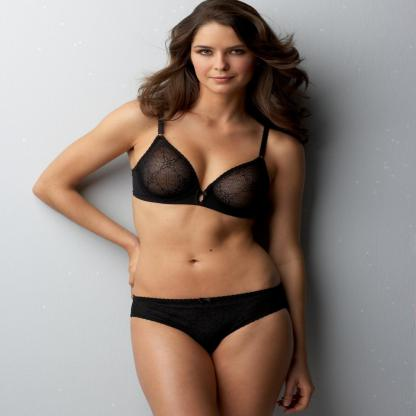long-hair: (136, 91, 301, 114)
